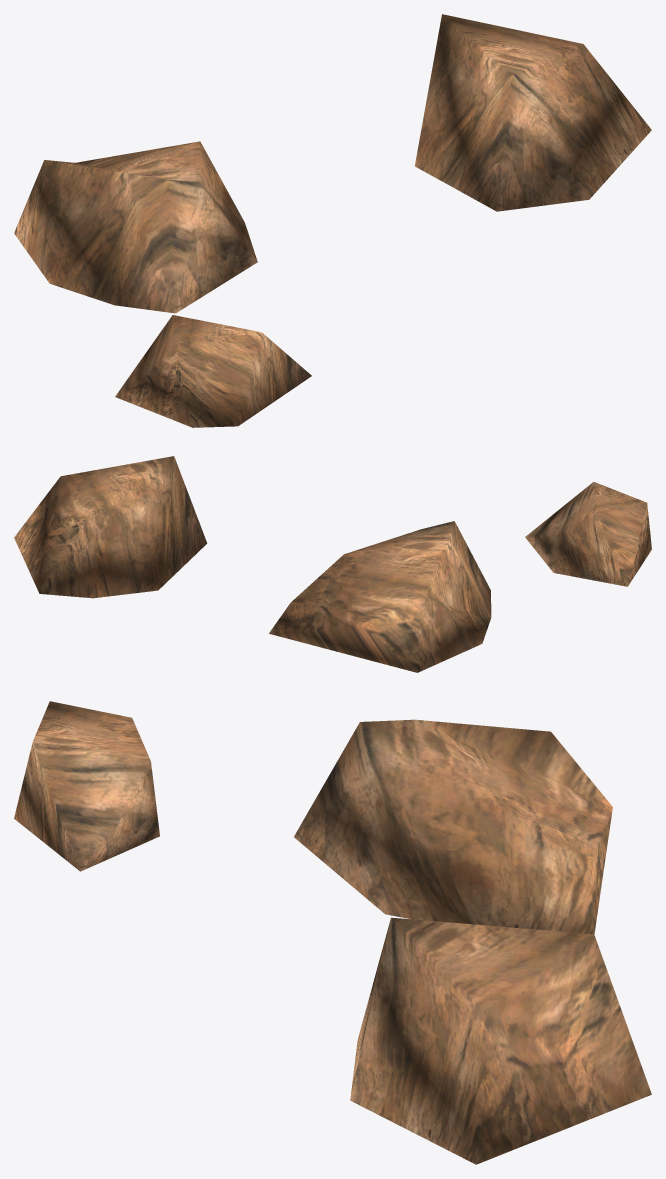
File: rock_tatt_jundland_pebble_a2_l2.fbx
The picture shows the model from 3 angles, top to bottom: view 1: azimuth 30°, elevation 25°; view 2: azimuth 150°, elevation 25°; view 3: azimuth 270°, elevation 25°; orthographic projection. The views are drawn at different scales.
Visible parts, largest first — view 1: mesh_node; view 2: mesh_node; view 3: mesh_node.
Boxes of the visible parts, x1,y1,x2,y2 form: mesh_node: [14, 14, 651, 427]; mesh_node: [14, 456, 651, 672]; mesh_node: [14, 701, 651, 1164].
Size of the model in its own units: 1.01 by 0.1825 by 0.7007.
